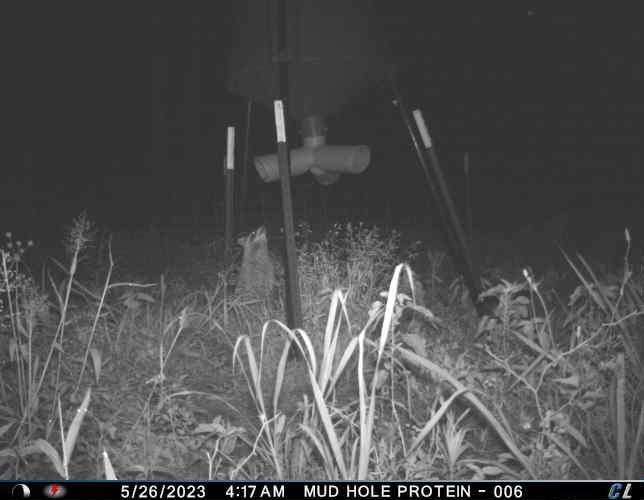Raccoon: (235, 221, 279, 310)
